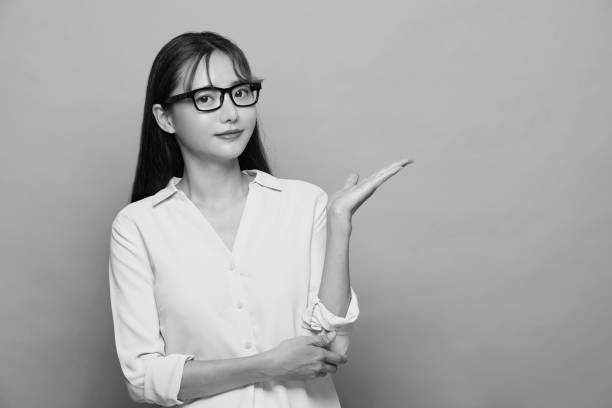pointing_gesture: (324, 155, 412, 220)
